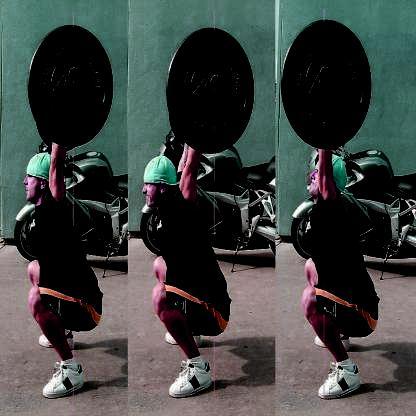Barbell: (319, 65, 333, 85), (211, 72, 224, 93), (69, 67, 82, 85)
